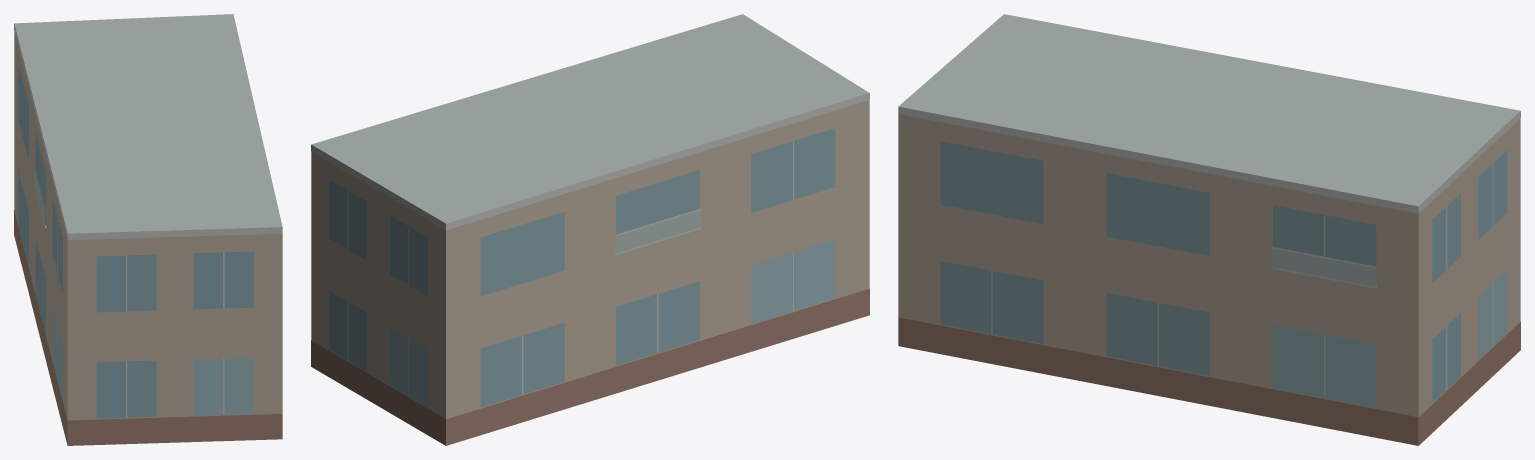
The model's file is survey-upis-32745962.glb.
3 views of the same model, side by side, from view 1: azimuth 30°, elevation 25°; view 2: azimuth 150°, elevation 25°; view 3: azimuth 270°, elevation 25° (orthographic). The views are drawn at different scales.
Parts seen in each view (by area): view 1: survey-upis-32745962.tmp; view 2: survey-upis-32745962.tmp; view 3: survey-upis-32745962.tmp.
Part boxes in pixels (x1,y1,x2,y2): survey-upis-32745962.tmp: (14, 14, 282, 445); survey-upis-32745962.tmp: (311, 14, 869, 445); survey-upis-32745962.tmp: (898, 14, 1520, 445).
Bounding box in the file's own units: 13.63 × 7.9 × 18.63.
